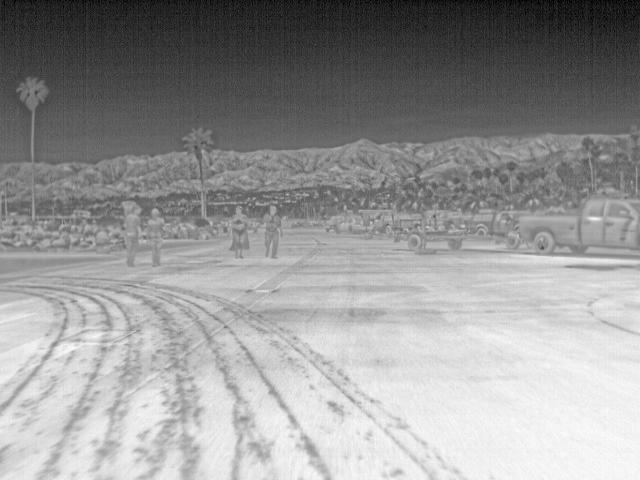car: (516, 196, 639, 258), (466, 212, 496, 239)
person: (227, 205, 255, 257), (122, 206, 144, 268), (261, 204, 285, 260), (145, 207, 165, 266)
